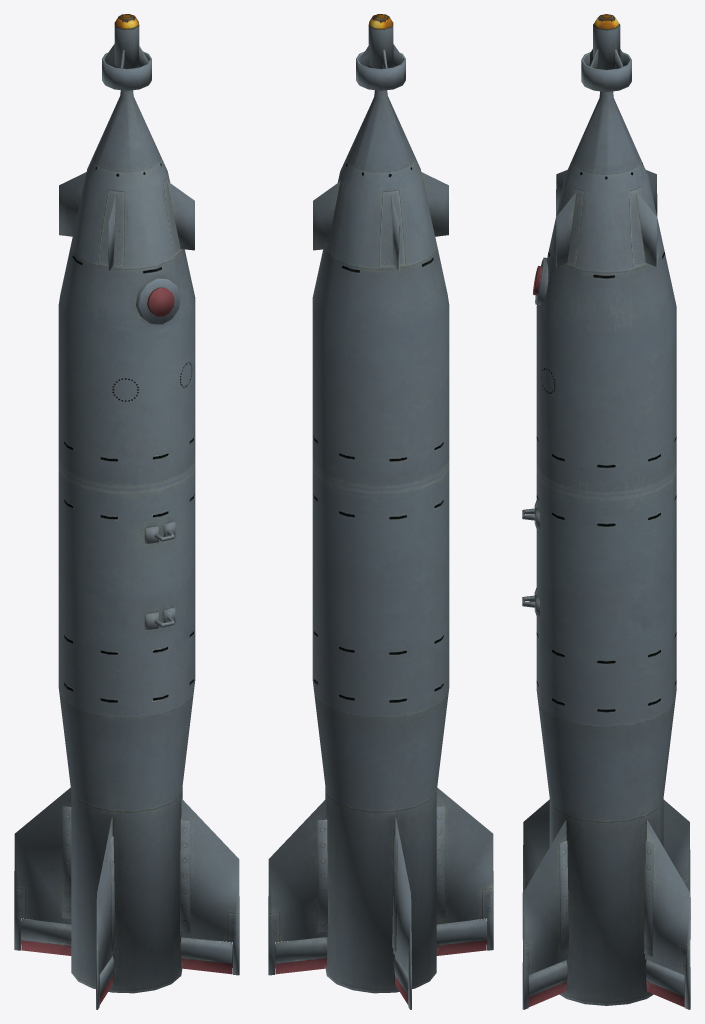
Rendered from kab-500l.glb.
The picture shows the model from 3 angles, left to right: view 1: azimuth 30°, elevation 25°; view 2: azimuth 150°, elevation 25°; view 3: azimuth 270°, elevation 25°; orthographic projection.
Parts seen in each view (by area): view 1: KAB-500L; view 2: KAB-500L; view 3: KAB-500L.
Boxes of the visible parts, bbox=[...] form: KAB-500L: bbox=[14, 14, 239, 1009]; KAB-500L: bbox=[268, 14, 493, 1009]; KAB-500L: bbox=[522, 14, 690, 1009].
Bounding box in the file's own units: 0.3776 × 2.4 × 0.3783.
1 material, 1 textured.
